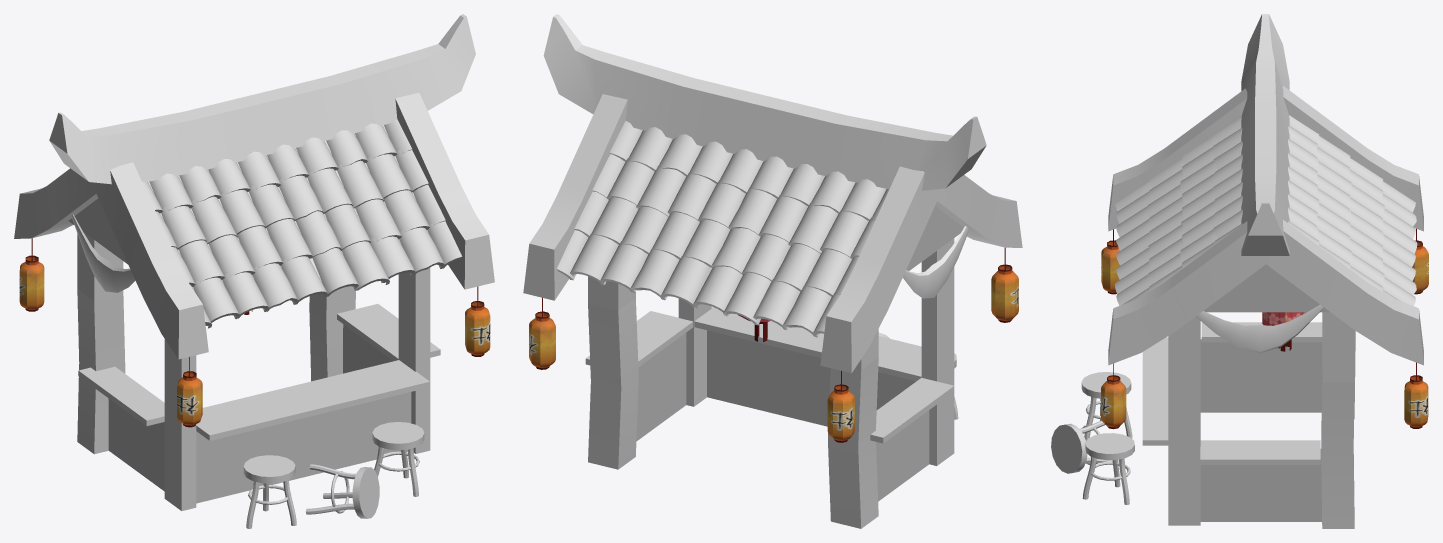
Rendered from SM_Store_02.fbx.
The picture shows the model from 3 angles, left to right: view 1: azimuth 30°, elevation 25°; view 2: azimuth 150°, elevation 25°; view 3: azimuth 270°, elevation 25°; orthographic projection. The views are drawn at different scales.
Visible parts, largest first — view 1: SM_Store_02; view 2: SM_Store_02; view 3: SM_Store_02.
Boxes of the visible parts, bbox=[...] form: SM_Store_02: bbox=[14, 14, 494, 528]; SM_Store_02: bbox=[523, 14, 1022, 528]; SM_Store_02: bbox=[1051, 14, 1428, 528].
Size of the model in its own units: 559 by 493 by 467.
